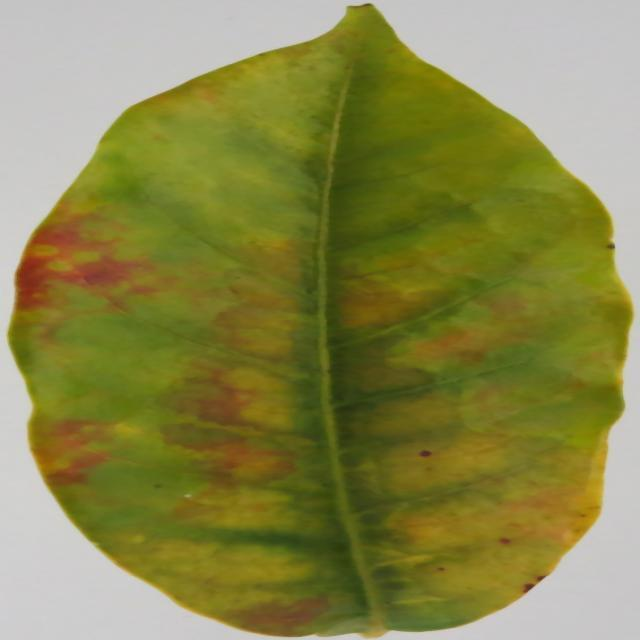DeficienciaNutricional-Fosforo: (11, 5, 630, 636)
